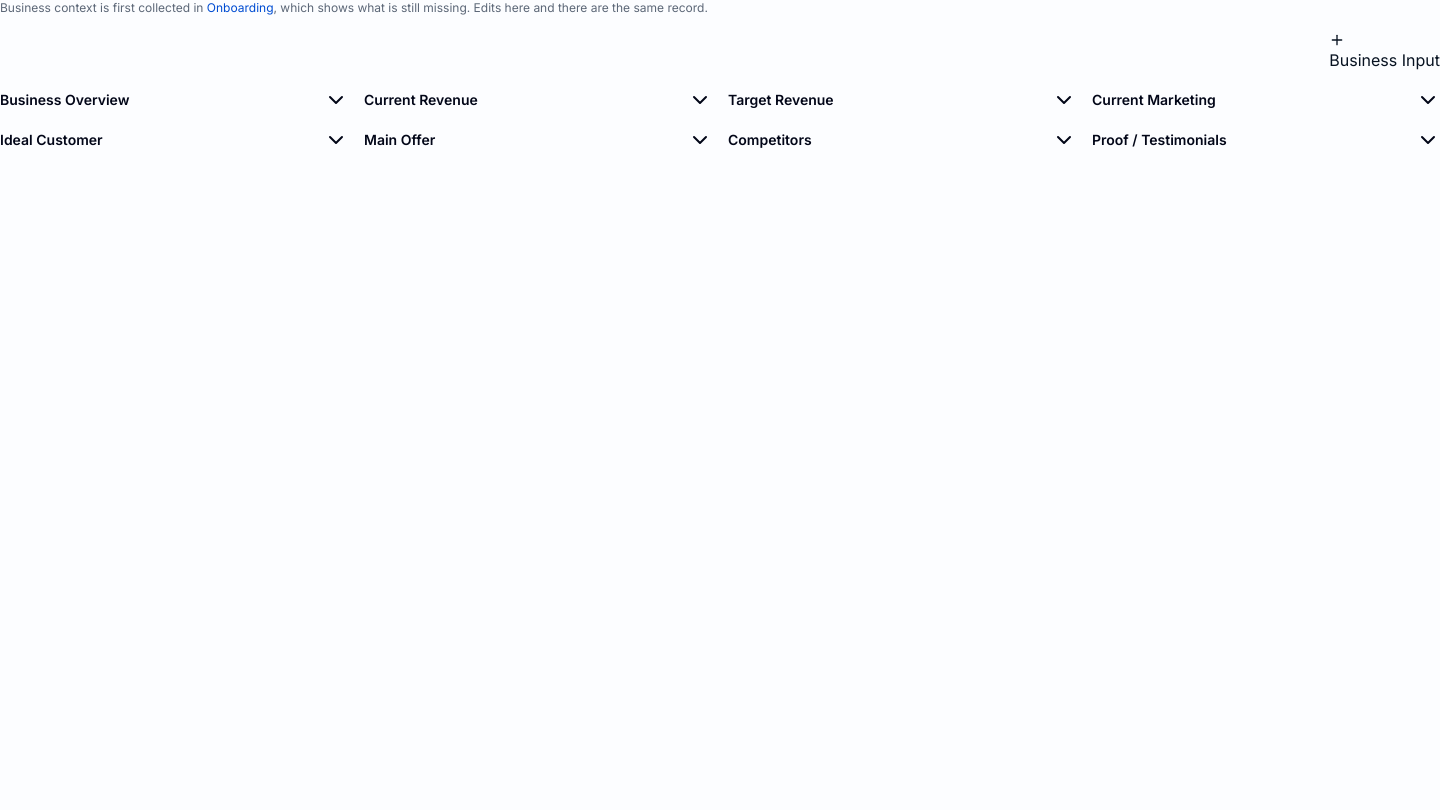
drafting the business context › shows where the draft came from, so it can be checked
This screenshot has width=1440, height=810.
Click the button "Business Input". click: (1385, 52)
box: [1329, 32, 1439, 72]
(page scrolled)
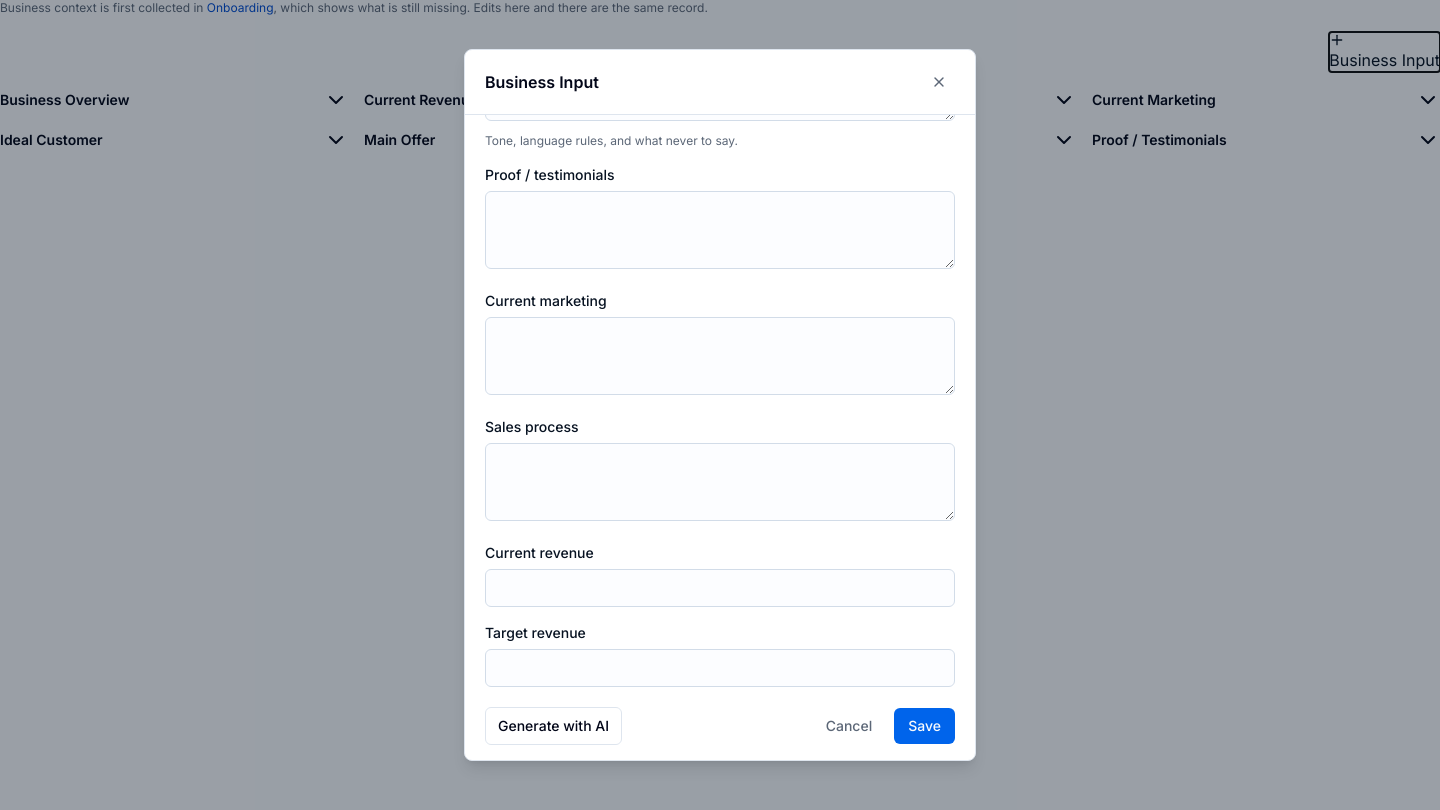
Click the button "Generate with AI". click: (554, 726)
box: [485, 707, 622, 745]
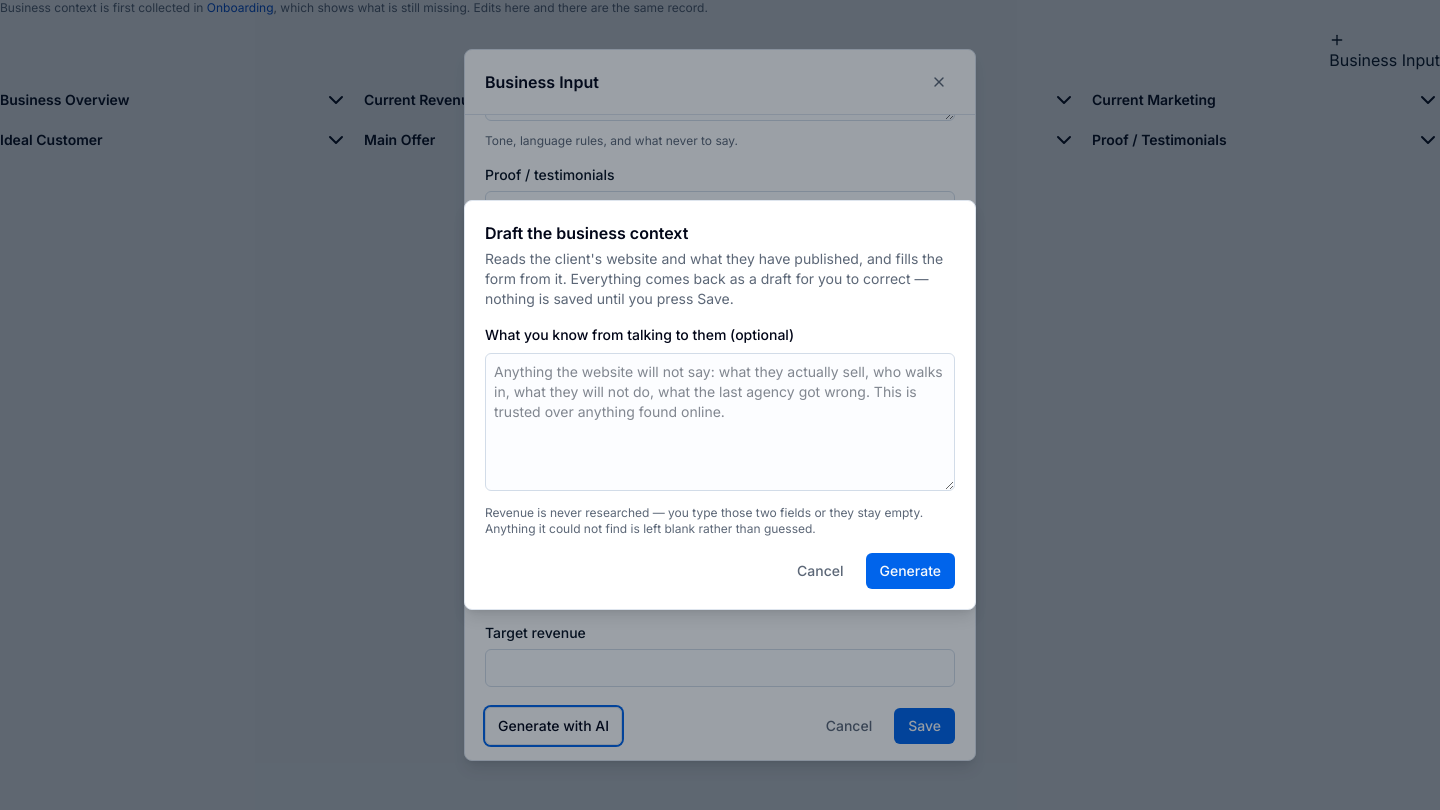
Click the button "Generate". click: (910, 571)
box: [866, 553, 955, 589]
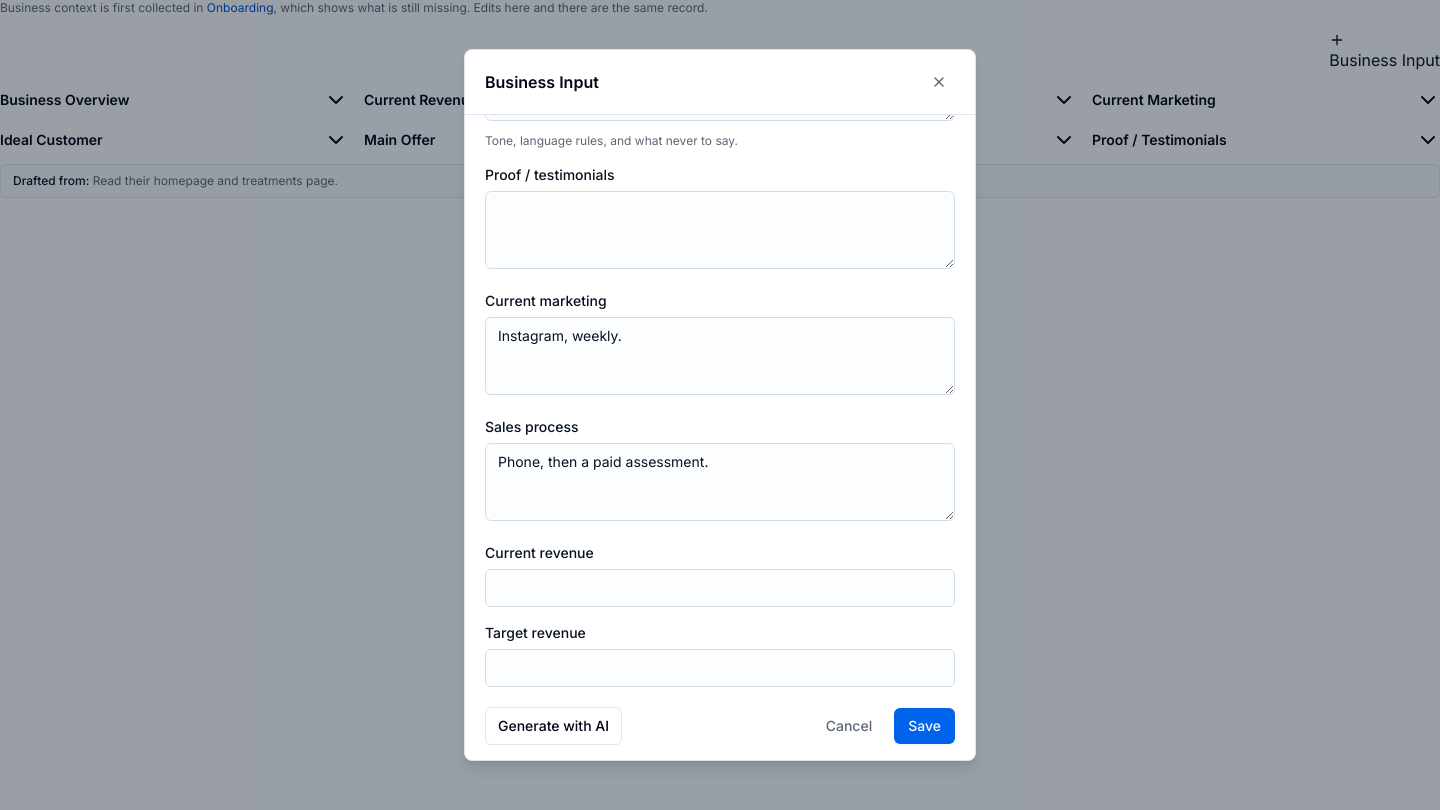
Expected: the text "Drafted from: Read their homepage and treatments page." is shown, [0, 164, 1439, 198]
